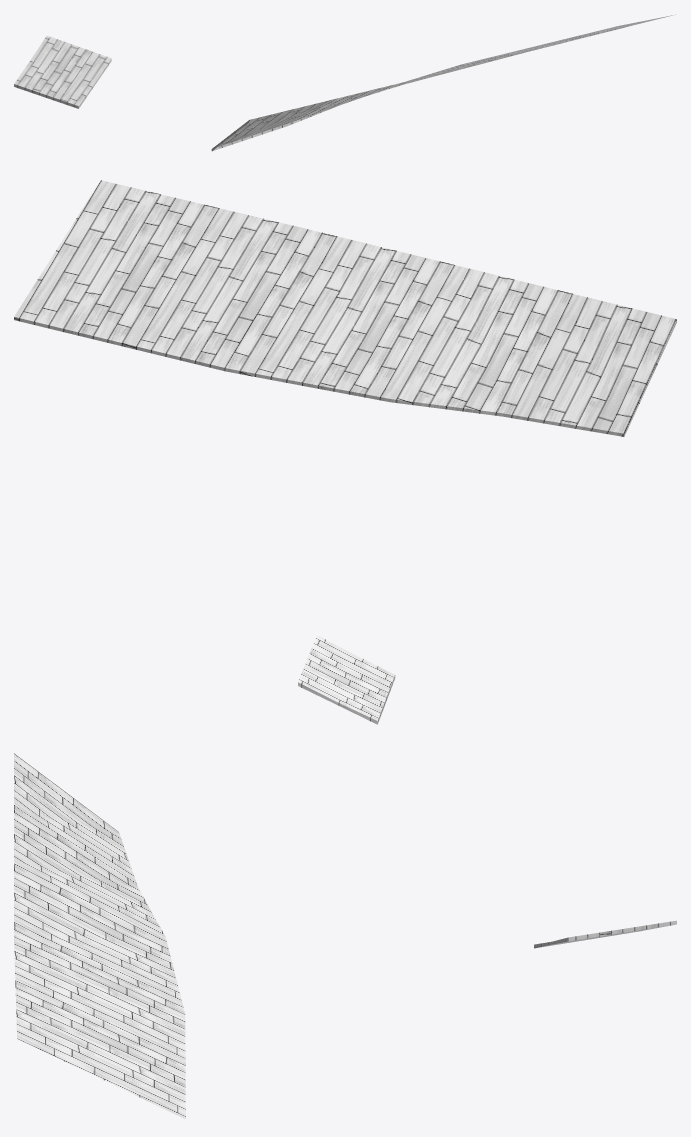
The model's file is SM_Roof_01.fbx.
3 renders of one model, top to bottom at view 1: azimuth 30°, elevation 25°; view 2: azimuth 150°, elevation 25°; view 3: azimuth 270°, elevation 25°, orthographic. The views are drawn at different scales.
Parts seen in each view (by area): view 1: SM_Roof_01; view 2: SM_Roof_01; view 3: SM_Roof_01.
Boxes of the visible parts, x1=… form: SM_Roof_01: x1=14, y1=14, x2=675, y2=151; SM_Roof_01: x1=14, y1=180, x2=676, y2=724; SM_Roof_01: x1=14, y1=753, x2=676, y2=1119.
Size of the model in its own units: 3763 by 1095 by 3613.
